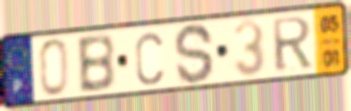0: (37, 36, 73, 100)
3: (233, 16, 266, 80)
B: (74, 32, 118, 96)
C: (133, 30, 165, 88)
R: (270, 15, 315, 75)
S: (173, 21, 216, 87)
